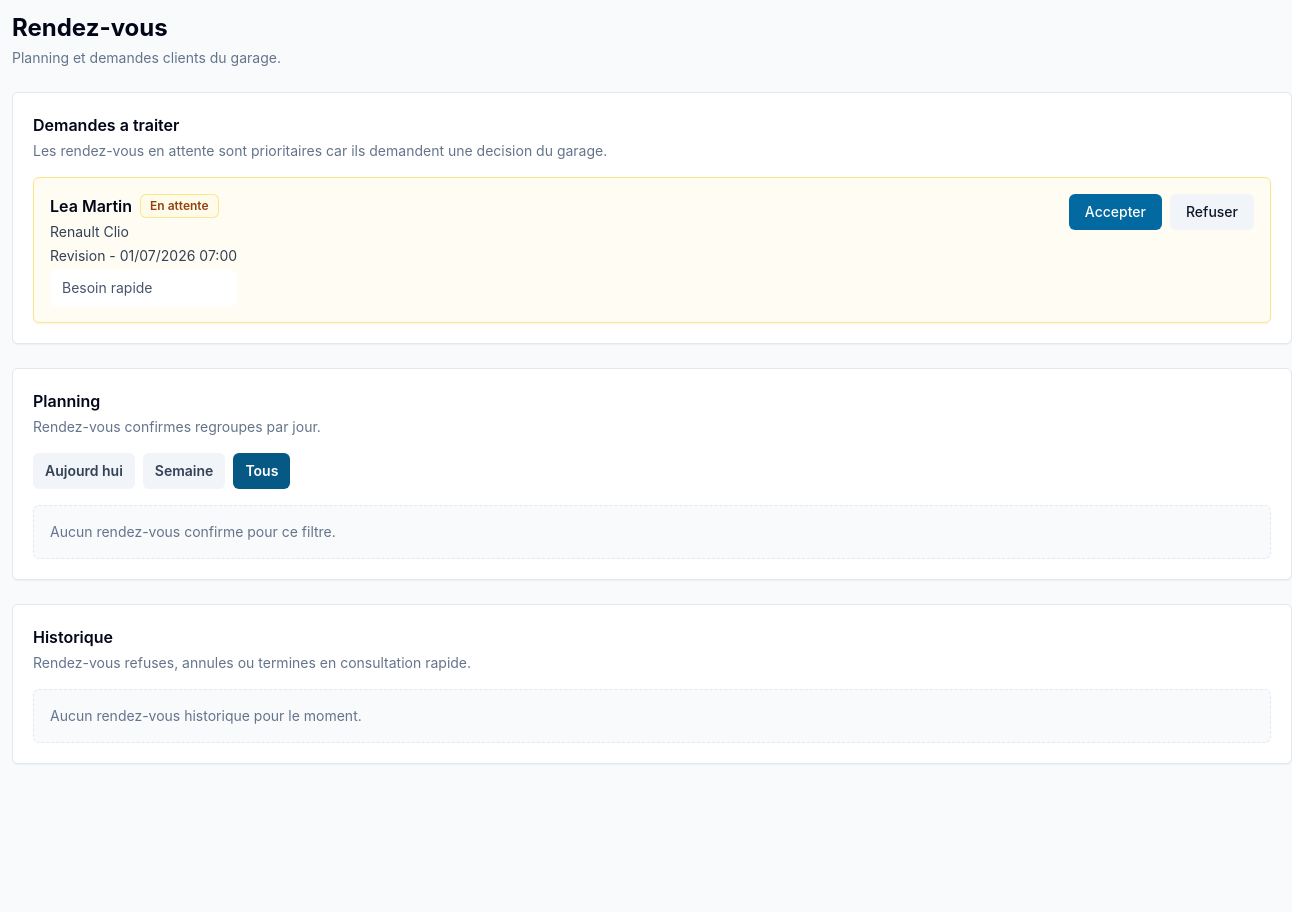
Test: AppointmentsPage › appelle acceptAppointment au clic sur accepter
Click the button "Accepter": (1115, 212) top-left (1069, 194), bottom-right (1162, 230)
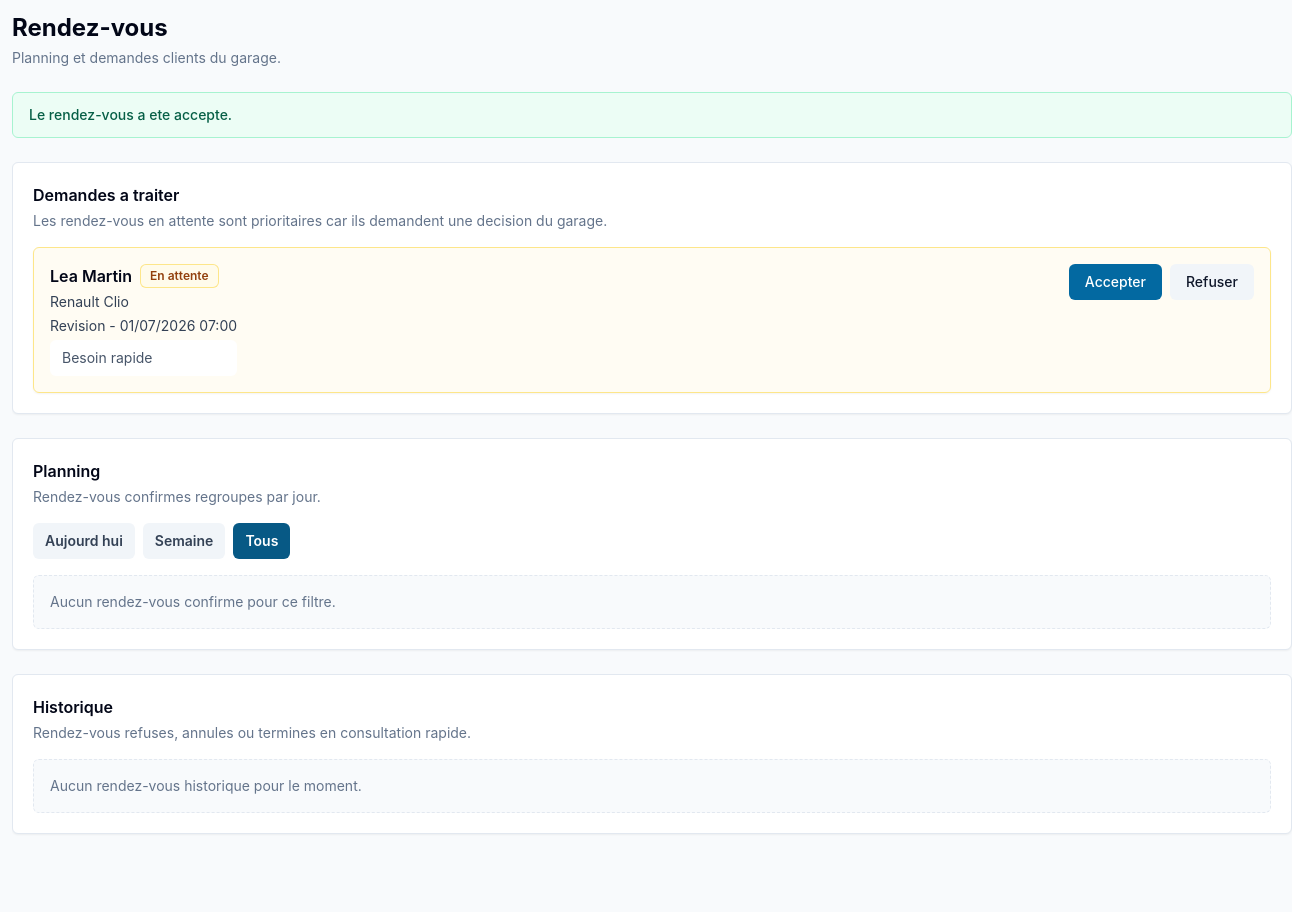
Now the text "Le rendez-vous a ete accepte." is shown, box top-left (12, 92), bottom-right (1291, 138)
